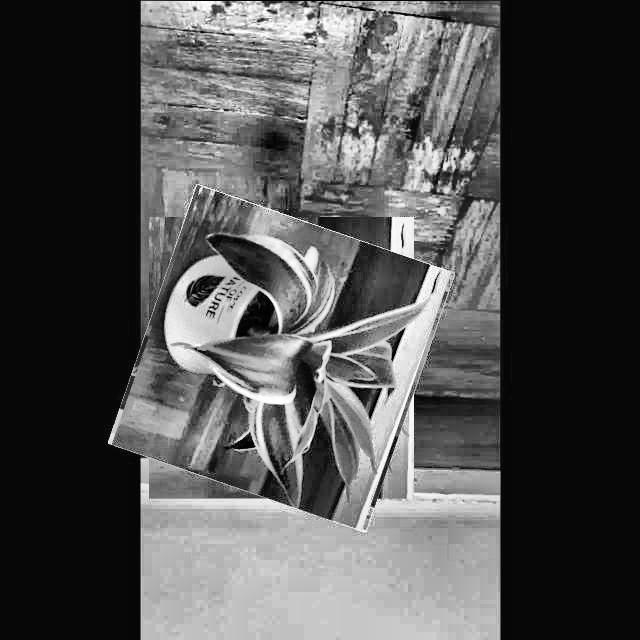plants: (126, 202, 436, 513)
